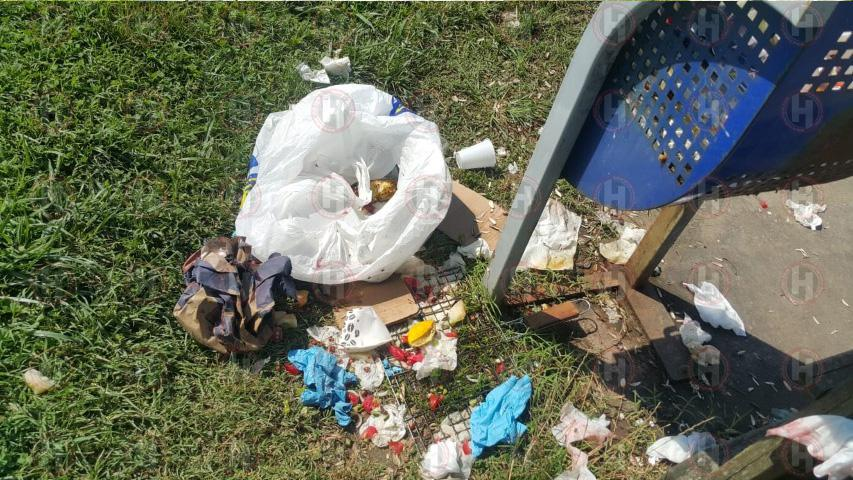Container: (465, 0, 853, 305), (520, 0, 853, 210)
Garbage: (236, 67, 459, 288), (152, 223, 319, 385), (534, 399, 722, 480), (269, 335, 363, 439), (461, 368, 552, 469), (403, 403, 508, 471), (672, 278, 756, 355), (780, 407, 853, 480), (340, 152, 411, 219), (400, 316, 470, 374), (336, 305, 395, 350), (451, 133, 510, 173), (297, 46, 348, 91), (788, 196, 835, 244), (340, 310, 387, 344)
